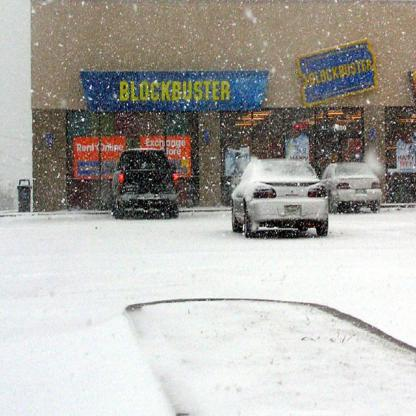car: (232, 159, 331, 238), (113, 149, 179, 219), (321, 163, 383, 213)
